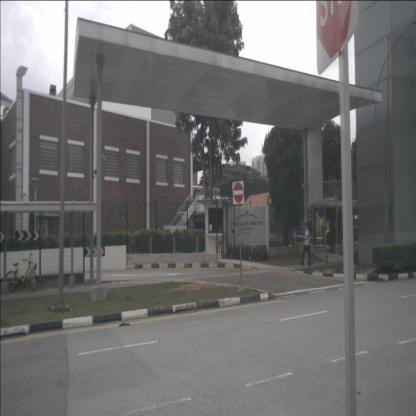human-pedestrian-adult: (299, 222, 312, 266)
vehicle-bicycle: (3, 252, 39, 293)
vehicle-car: (325, 215, 375, 249), (193, 212, 203, 231)
